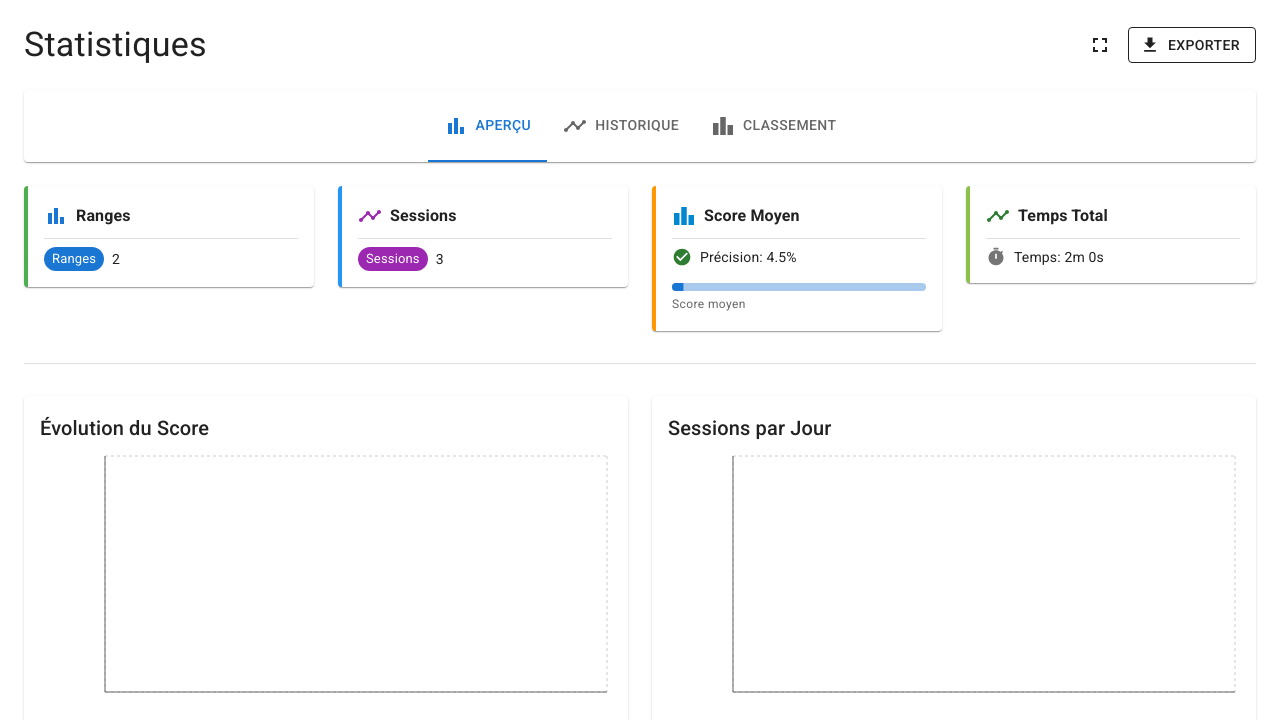
Scenario: Stats page › switches to the history tab and shows the empty state
The image size is (1280, 720).
Click the tab "Historique" at coordinates (621, 126), box 547,90 -> 695,162
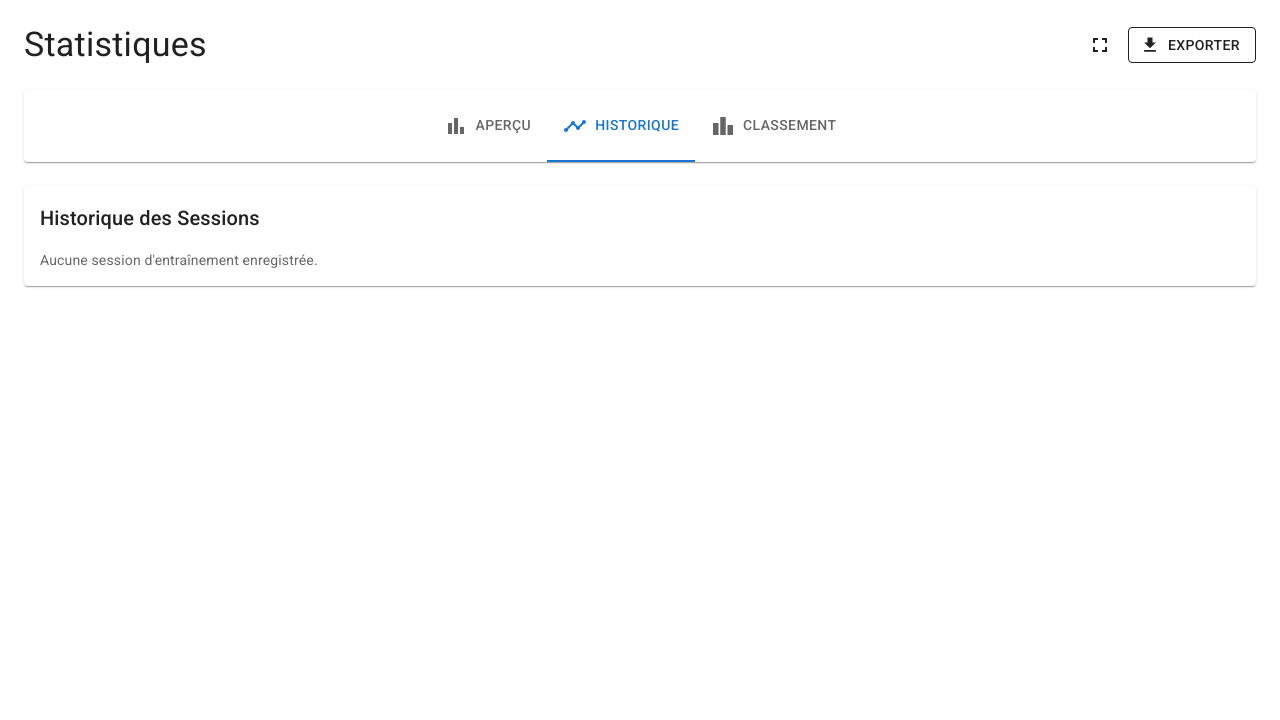
expect the text "Aucune session d'entraînement enregistrée." is shown: met, box 40,252 -> 318,268
